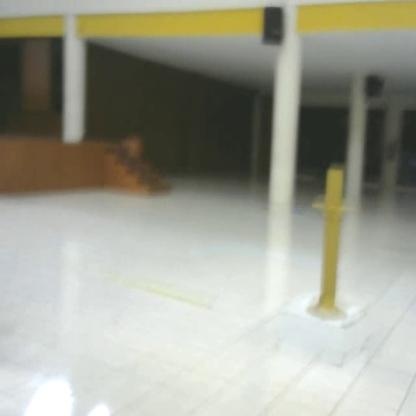pole: (307, 162, 360, 326)
